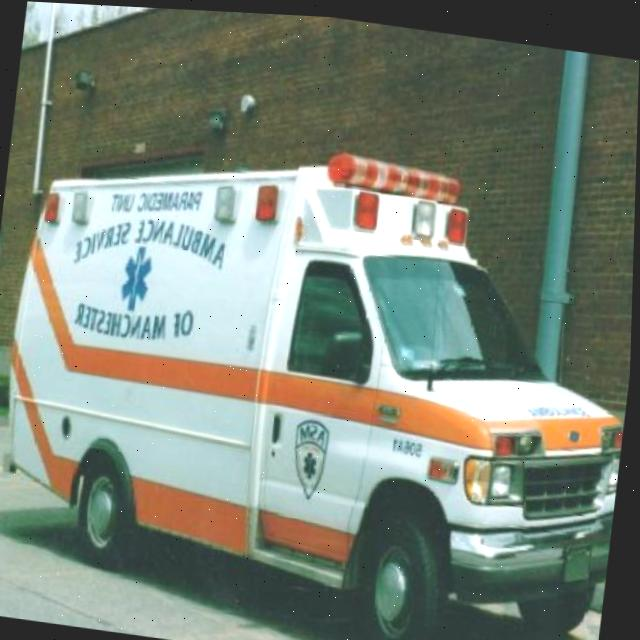emergency: (0, 103, 638, 640)
